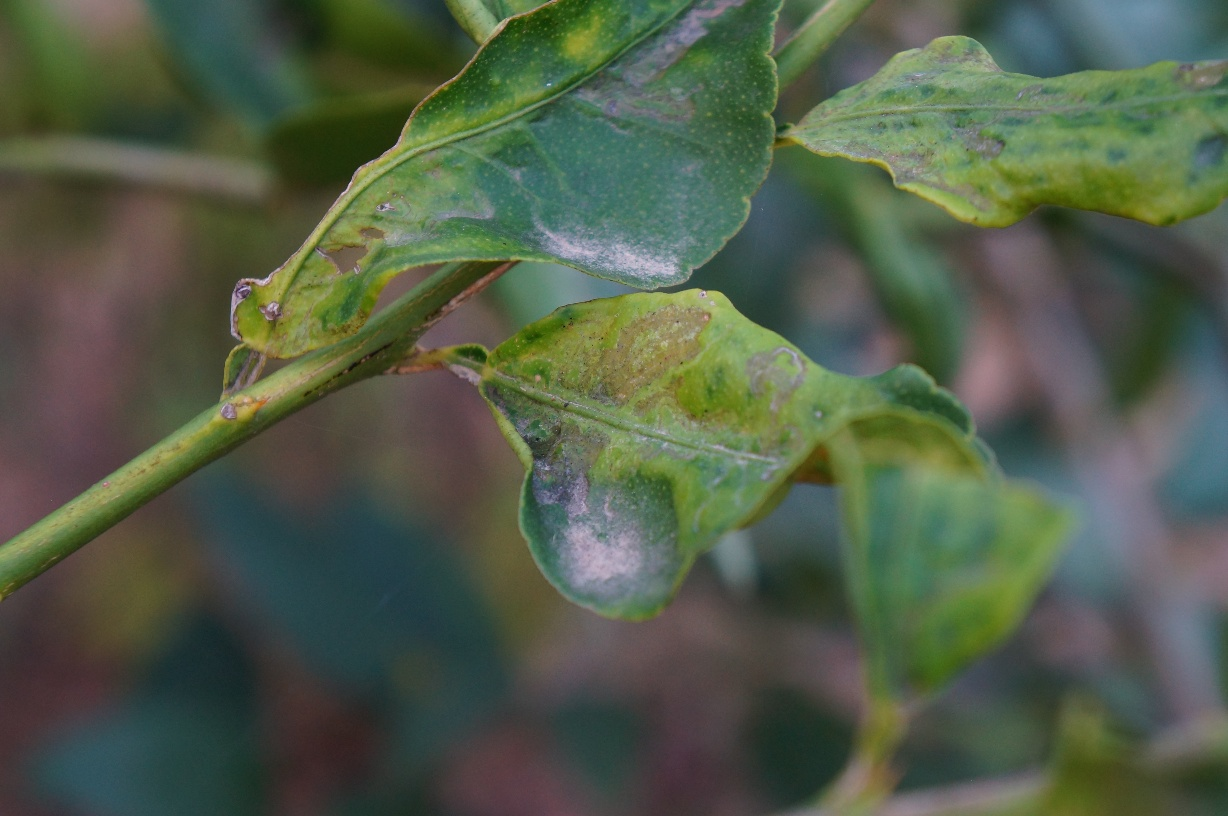curly: (775, 25, 1228, 233)
damage: (576, 299, 806, 441), (569, 0, 745, 127)
